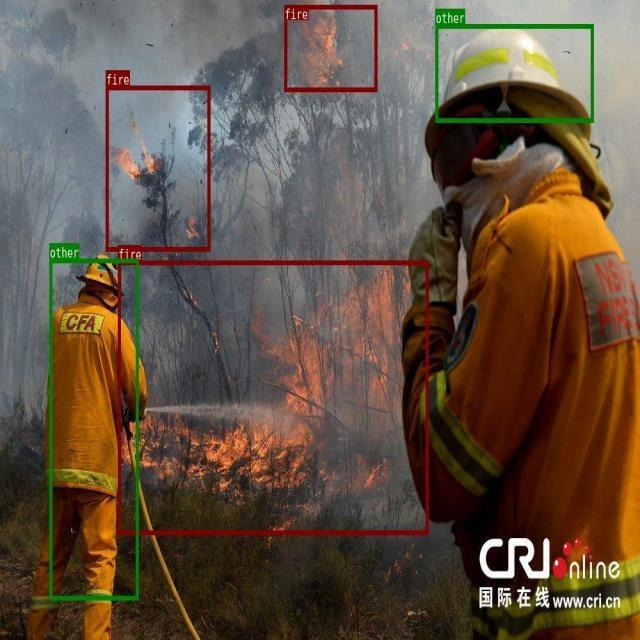fire: (118, 260, 428, 534), (105, 86, 210, 250), (284, 5, 376, 91)
